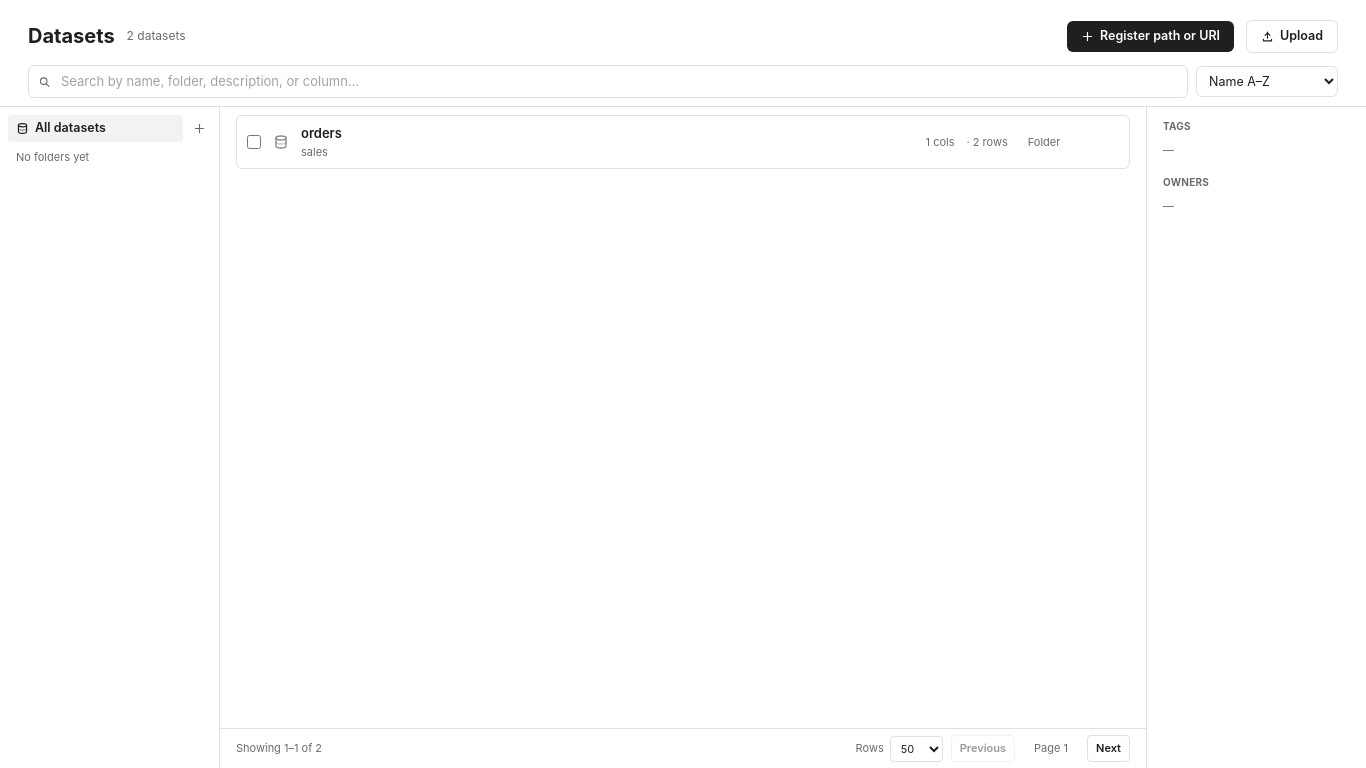
Test: Catalog discovery request and mutation truth › keeps the first page when load-more is offline and exposes an explicit retry
Check: the text "orders" is shown, box [301,124,342,144]
Click the button with test id "catalog-next-page". click: (1108, 749)
box: [1087,735,1130,762]
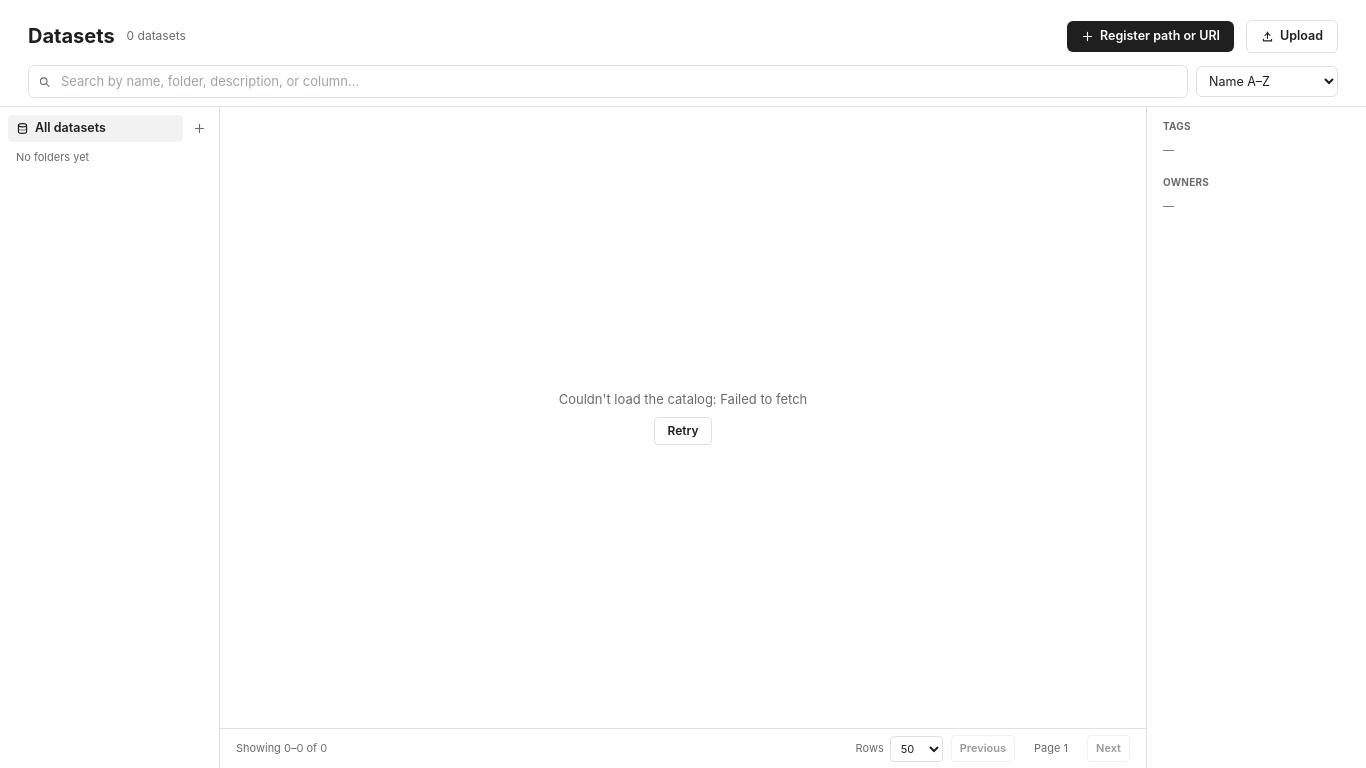
Check: the text "Couldn't load the catalog: Failed to fetch" is shown, box [559,390,807,409]
Click the button with test id "catalog-retry". click: (683, 431)
box: [654,417,712,445]
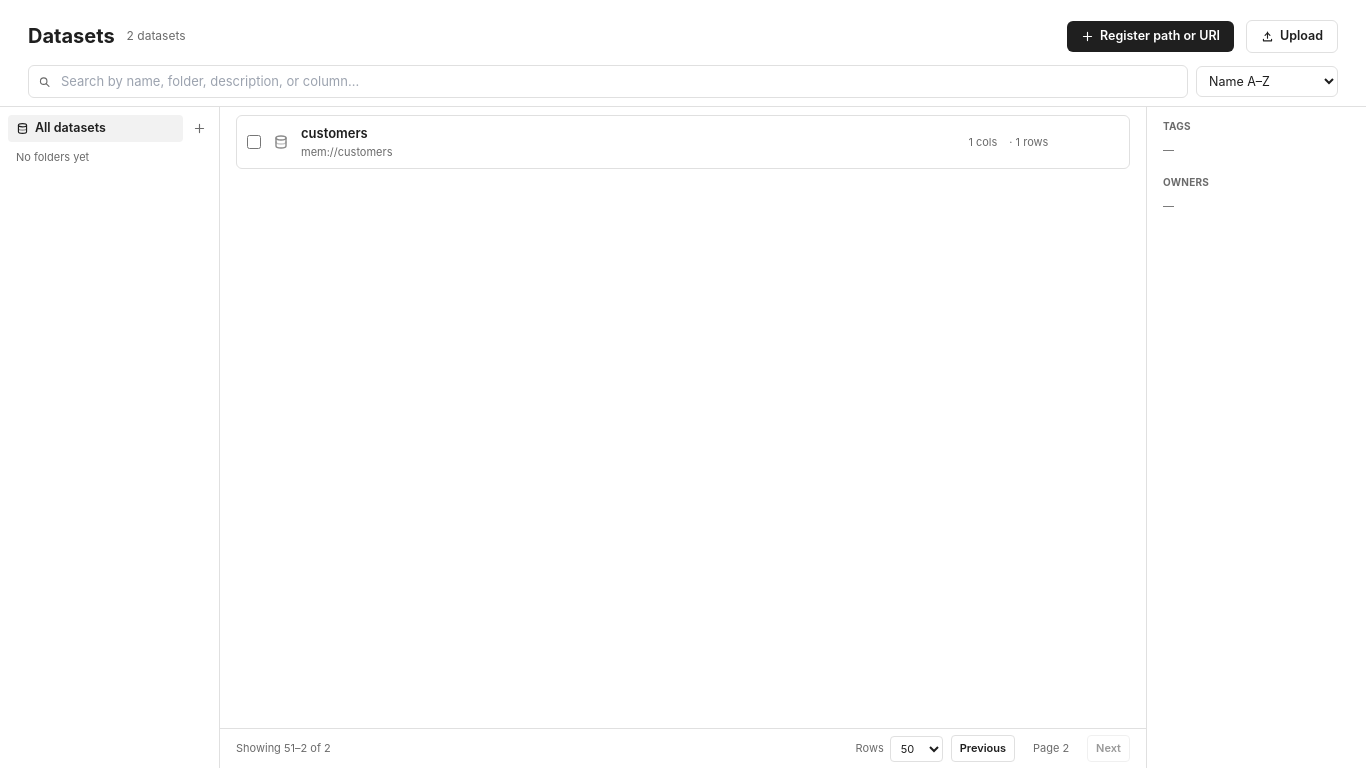
Check: the text "customers" is shown, box [301,124,368,144]
